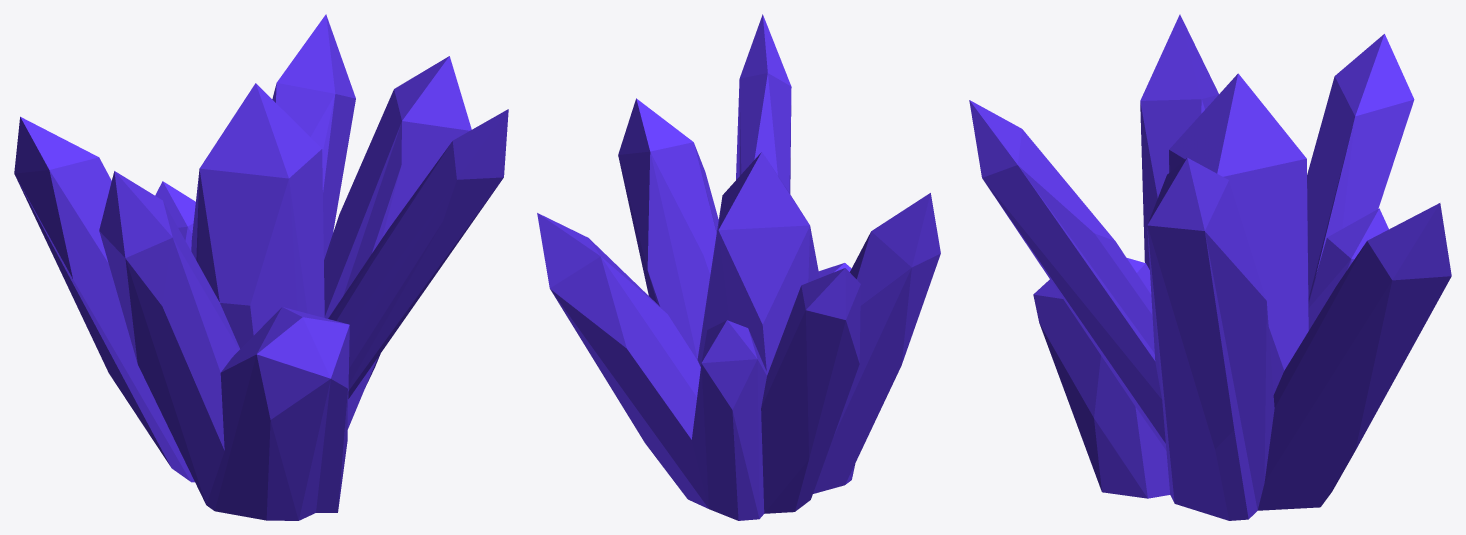
File: CrystalDarkBlue.fbx
The picture shows the model from 3 angles, left to right: view 1: azimuth 30°, elevation 25°; view 2: azimuth 150°, elevation 25°; view 3: azimuth 270°, elevation 25°; orthographic projection. The views are drawn at different scales.
Parts seen in each view (by area): view 1: Cube.001; view 2: Cube.001; view 3: Cube.001.
Part boxes in pixels (<box>): Cube.001: <box>14,14,508,520</box>; Cube.001: <box>537,14,940,520</box>; Cube.001: <box>969,14,1451,520</box>.
Size of the model in its own units: 112 by 128 by 125.
